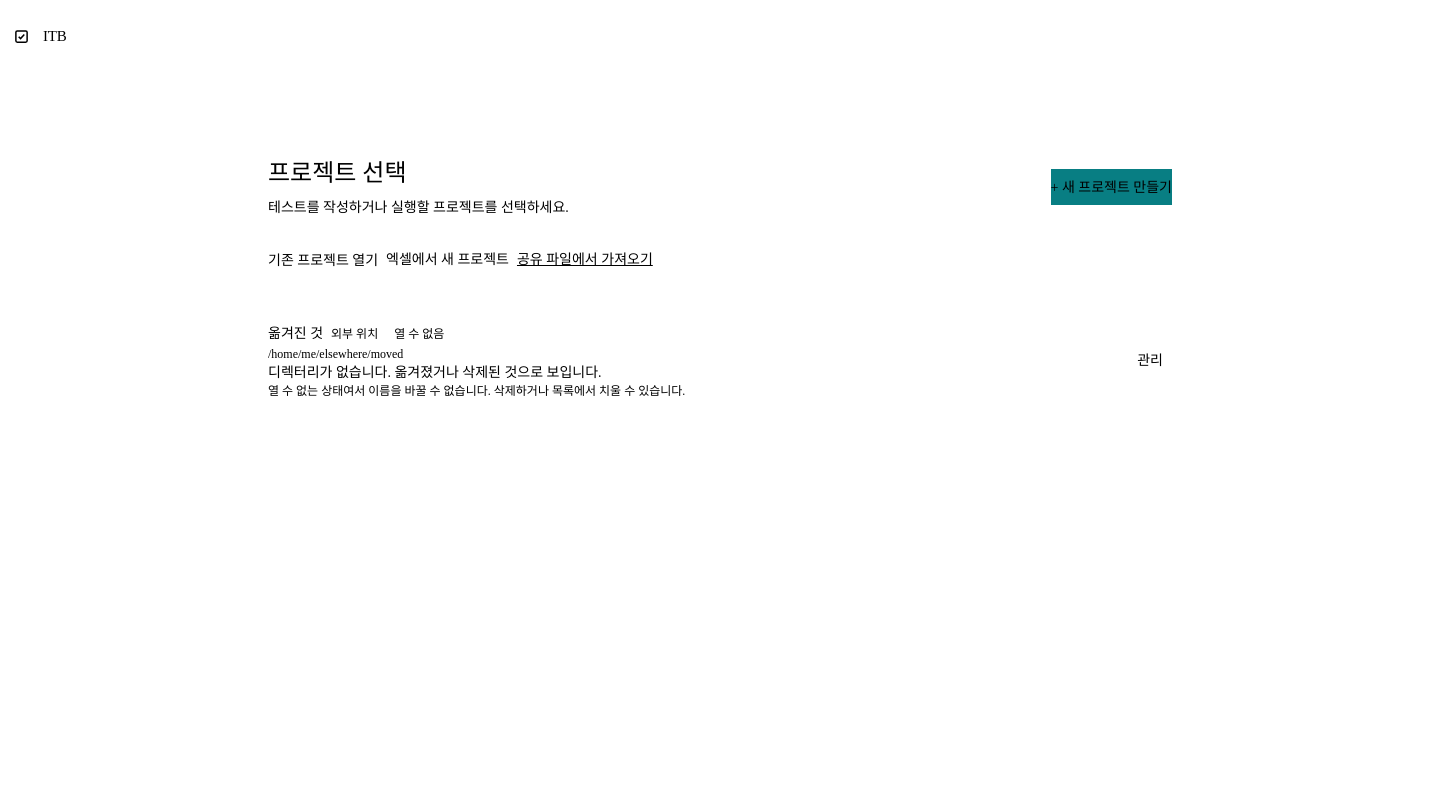
줄 상태 × 조작 (data-model §3) › 열 수 없는 줄의 확인 단계는 무슨 일이 일어날지 미리 말한다 (UC-012-03)
Click the button "관리": (1150, 361) [1128,343,1172,379]
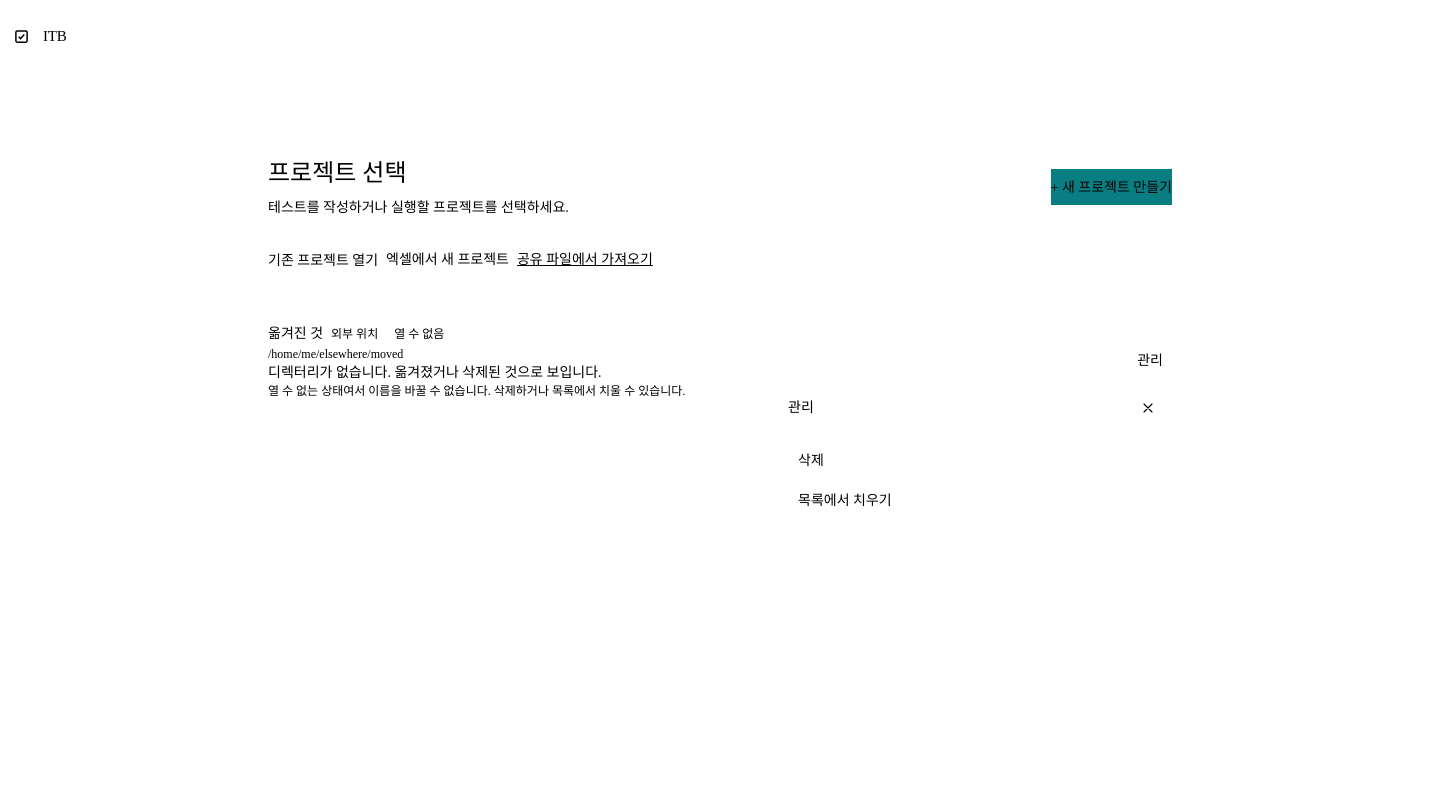
Click the button "삭제": (811, 460) [788,446,1156,474]
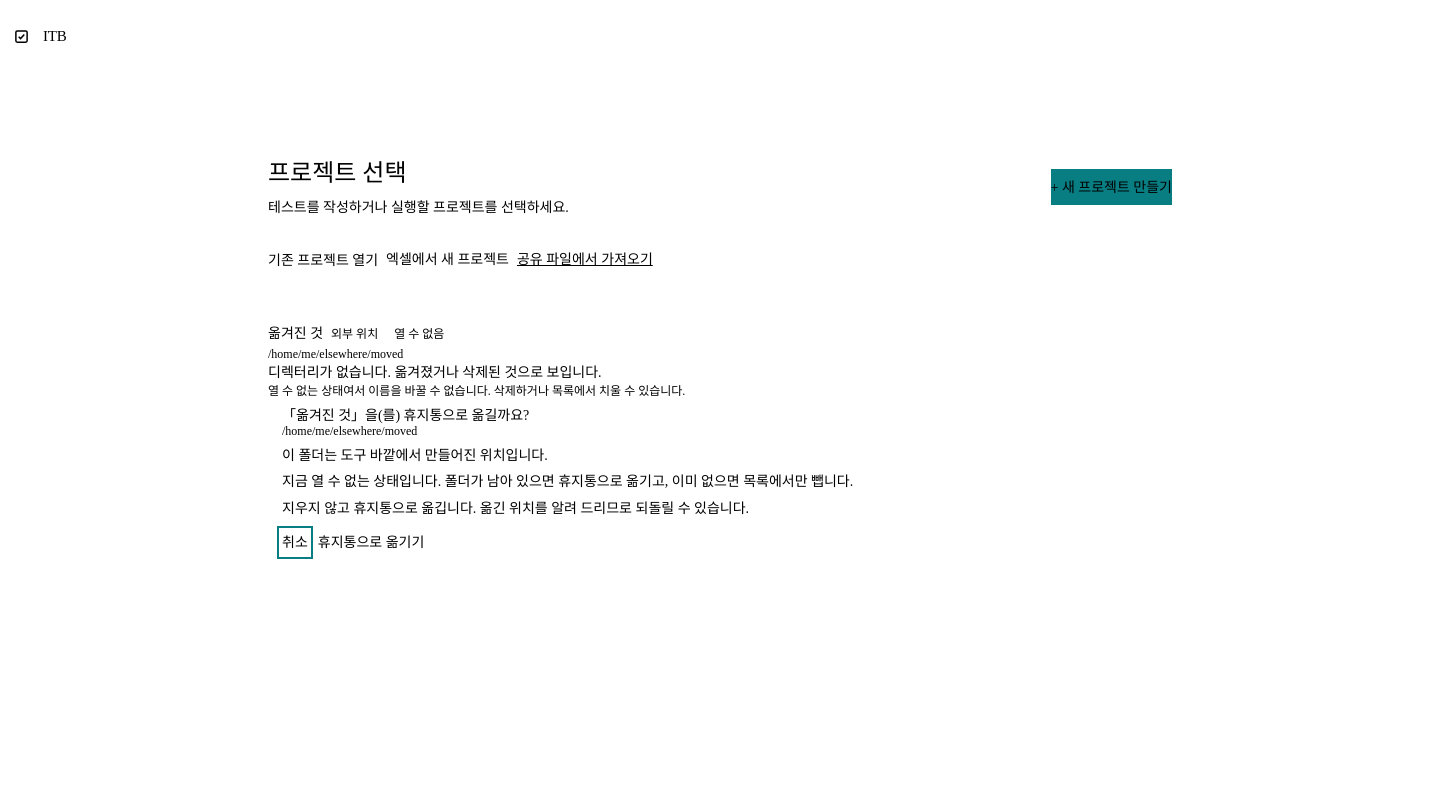
expect the text "지금 열 수 없는 상태입니다. 폴더가 남아 있으면 휴지통으로 옮기고, 이미 없으면 목록에서만 뺍니다." is shown: met, box [282,474,853,489]
